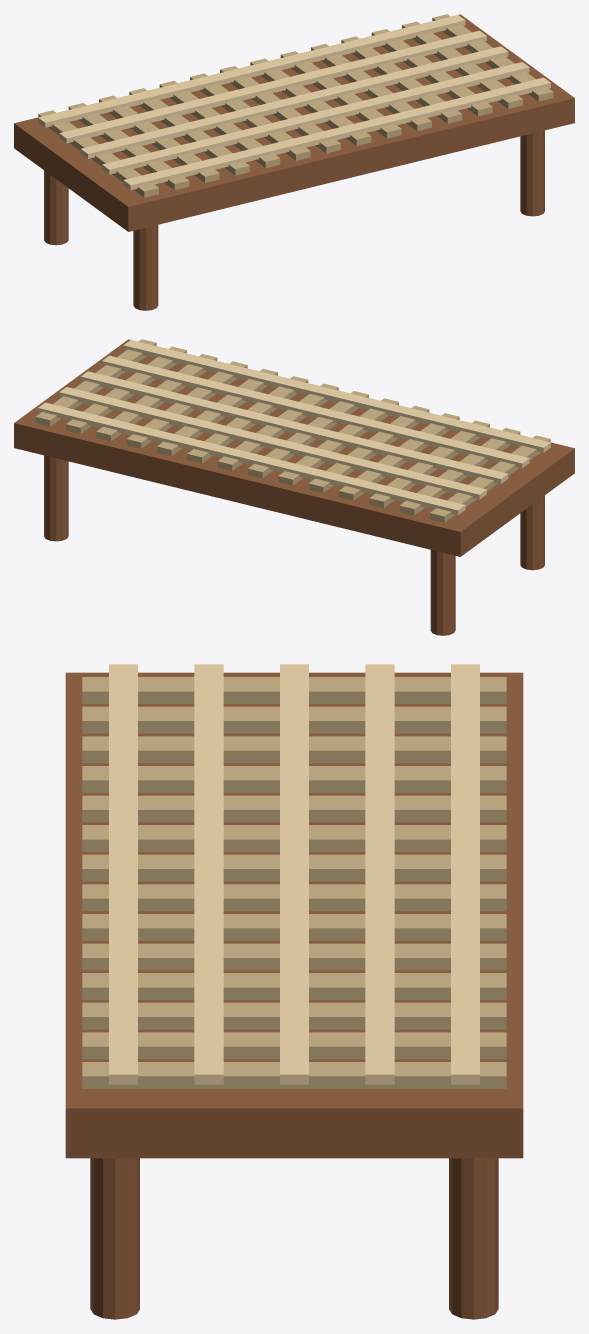
Rendered from 068_woven_charpoy.glb.
3 views of the same model, one above another, from view 1: azimuth 30°, elevation 25°; view 2: azimuth 150°, elevation 25°; view 3: azimuth 270°, elevation 25° (orthographic). The views are drawn at different scales.
Parts seen in each view (by area): view 1: Woven charpoy; view 2: Woven charpoy; view 3: Woven charpoy.
Boxes of the visible parts, x1,y1,x2,y2 form: Woven charpoy: [14, 14, 574, 310]; Woven charpoy: [14, 339, 574, 635]; Woven charpoy: [65, 664, 523, 1319].
Size of the model in its own units: 1.87 by 0.502 by 0.83.
